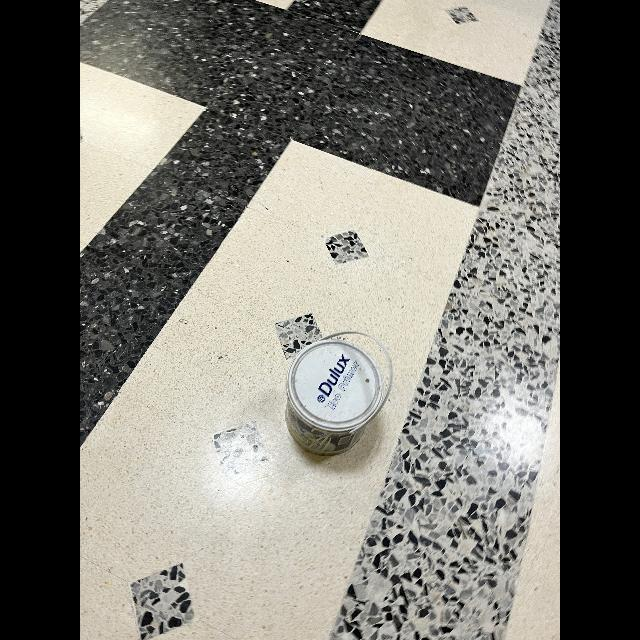paint_bucket: (271, 333, 401, 457)
